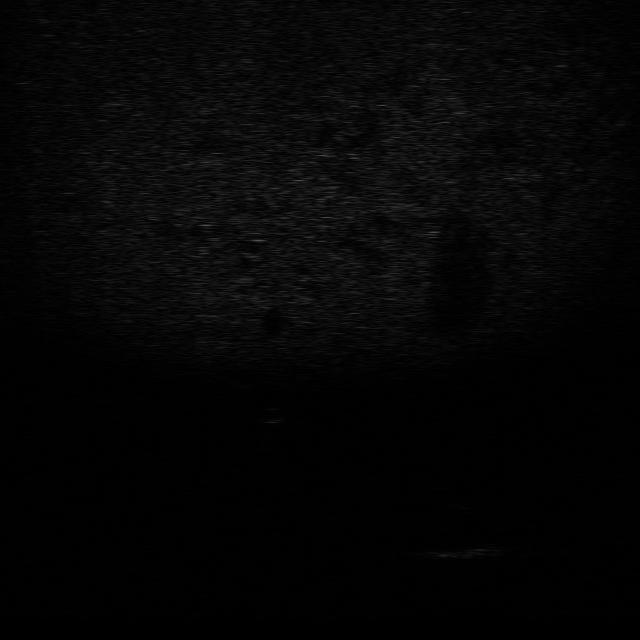ball: (249, 406, 295, 427)
metal bucket: (420, 538, 512, 565)
tyre: (422, 484, 482, 516)
